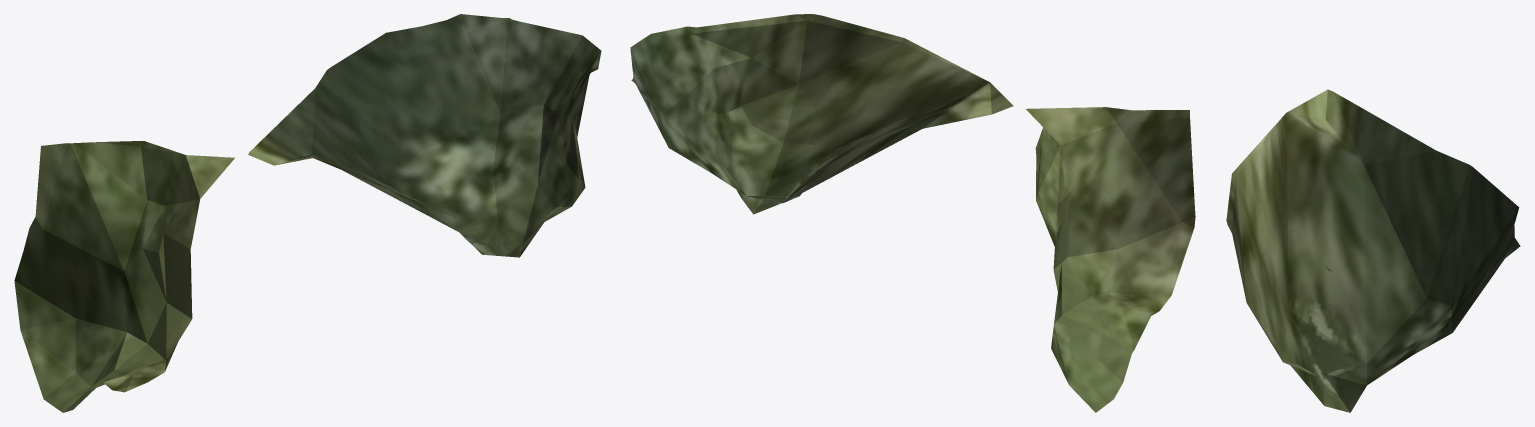
3 views of the same model, side by side, from view 1: azimuth 30°, elevation 25°; view 2: azimuth 150°, elevation 25°; view 3: azimuth 270°, elevation 25° (orthographic). The views are drawn at different scales.
Bounding box in the file's own units: 2.26 × 1.05 × 1.06.
1 material, 1 textured.
